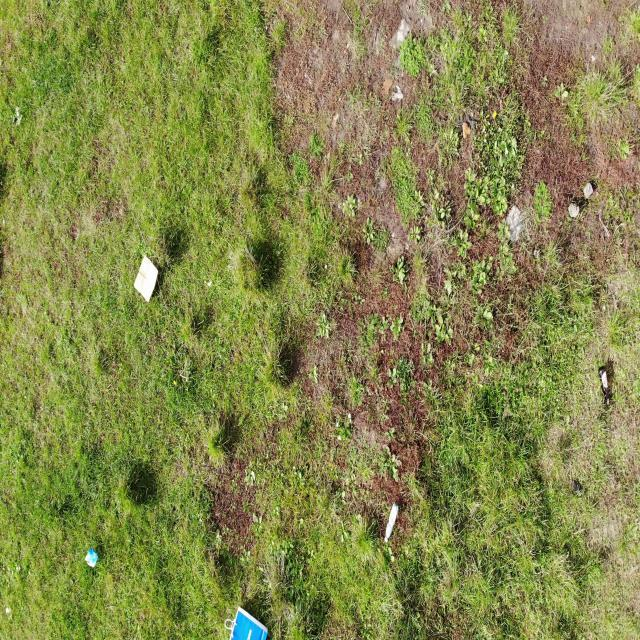rubbish: (132, 254, 158, 306), (230, 607, 268, 640), (384, 500, 399, 548), (597, 365, 611, 413), (84, 548, 99, 572)
